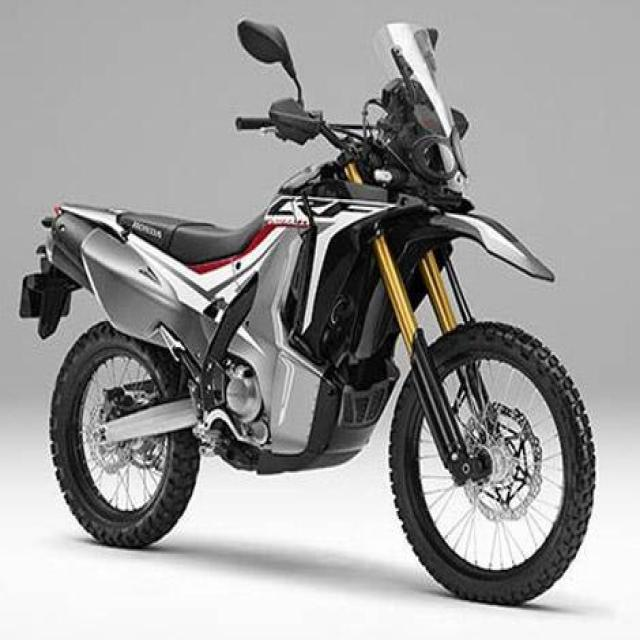motorcycle: (19, 25, 585, 601)
